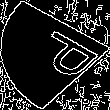P_SE: (12, 25, 98, 85)
